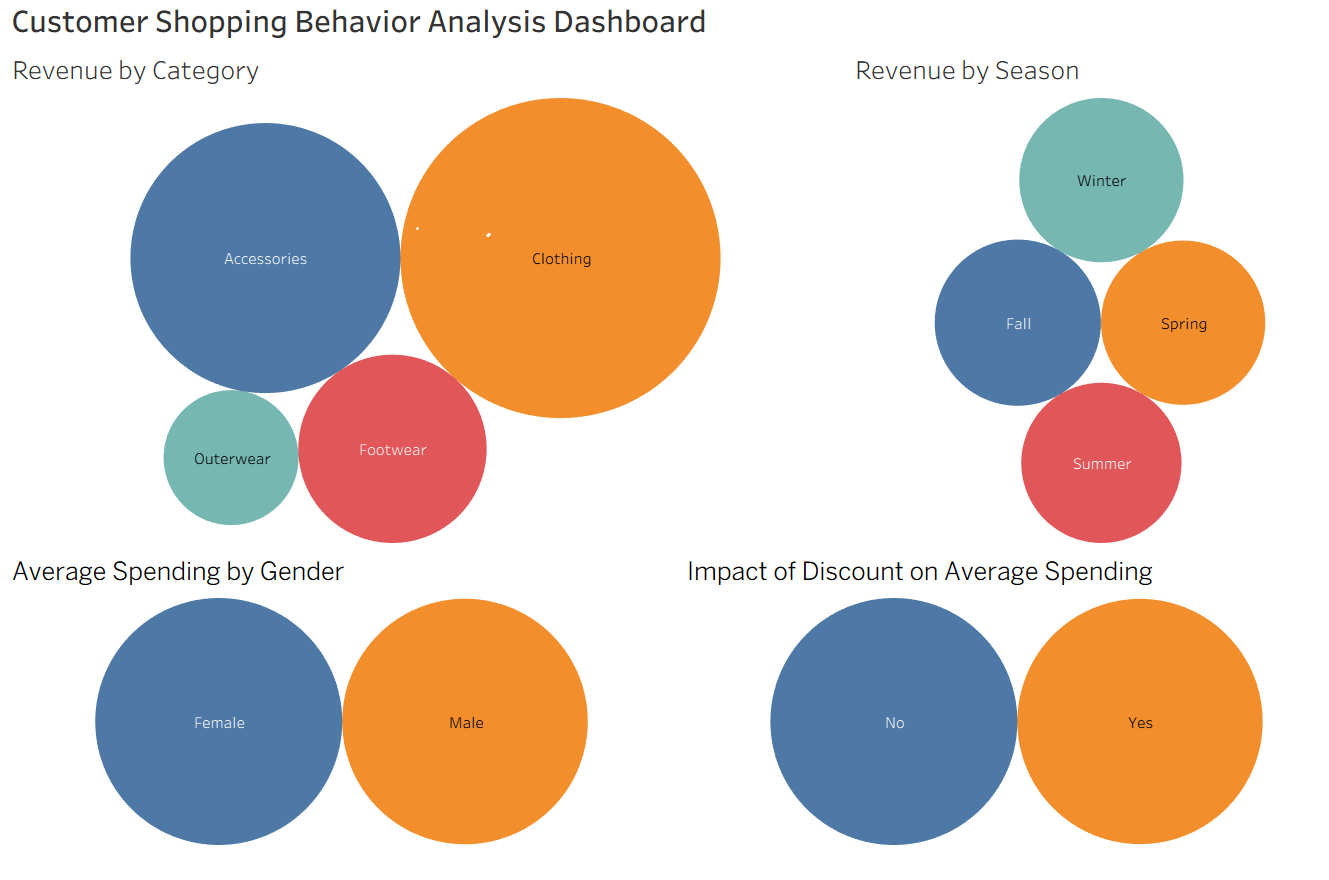

What the dashboard file says about the page in this screenshot:
{"tool":"tableau","page":{"name":"Customer Shopping Analysis","canvas":[650,860],"ordinal":0},"visuals":[{"type":"title","box":[8,8,634,105]},{"type":"worksheet","title":"Revenue by Category","mark":"Circle","box":[8,113,399,358.9]},{"type":"worksheet","title":"Revenue by Season","mark":"Circle","box":[407,113,235,358.9]},{"type":"worksheet","title":"Spending by Gender","mark":"Circle","box":[8,471.9,317,215.1]},{"type":"worksheet","title":"discount impact on spending","mark":"Circle","box":[325,471.9,317,215.1]},{"type":"text","box":[8,687,634,165]}]}

Visuals, with their boxes on the page's 650x860 design canvas (x1, y1, x2, y2). These are canvas units, not pixel positions in the 1329x880 screenshot, which may show the page scaled, cropped or inside an application window:
title: 8/8/642/113
"Revenue by Category" worksheet (Circle marks): 8/113/407/472
"Revenue by Season" worksheet (Circle marks): 407/113/642/472
"Spending by Gender" worksheet (Circle marks): 8/472/325/687
"discount impact on spending" worksheet (Circle marks): 325/472/642/687
text: 8/687/642/852
